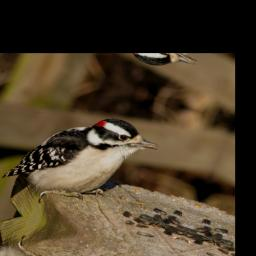Woodpecker: (0, 94, 167, 230)
